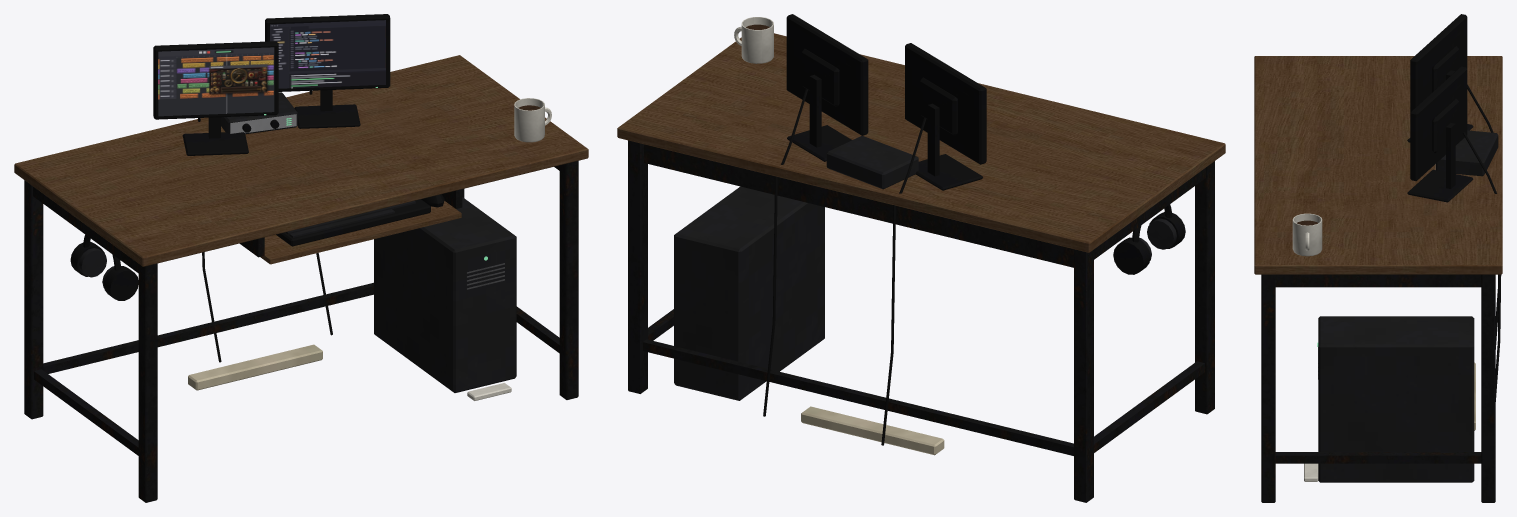
The model's file is test-desk.glb.
3 renders of one model, left to right at view 1: azimuth 30°, elevation 25°; view 2: azimuth 150°, elevation 25°; view 3: azimuth 270°, elevation 25°, orthographic. The views are drawn at different scales.
Visible parts, largest first — view 1: test_desk; view 2: test_desk; view 3: test_desk.
Boxes of the visible parts, box(x1,y1,x2,y2) form: test_desk: box(14, 14, 588, 502); test_desk: box(617, 14, 1225, 502); test_desk: box(1254, 14, 1502, 502).
Bounding box in the file's own units: 1.4 × 1.06 × 0.7.
4 materials, 4 textured.
